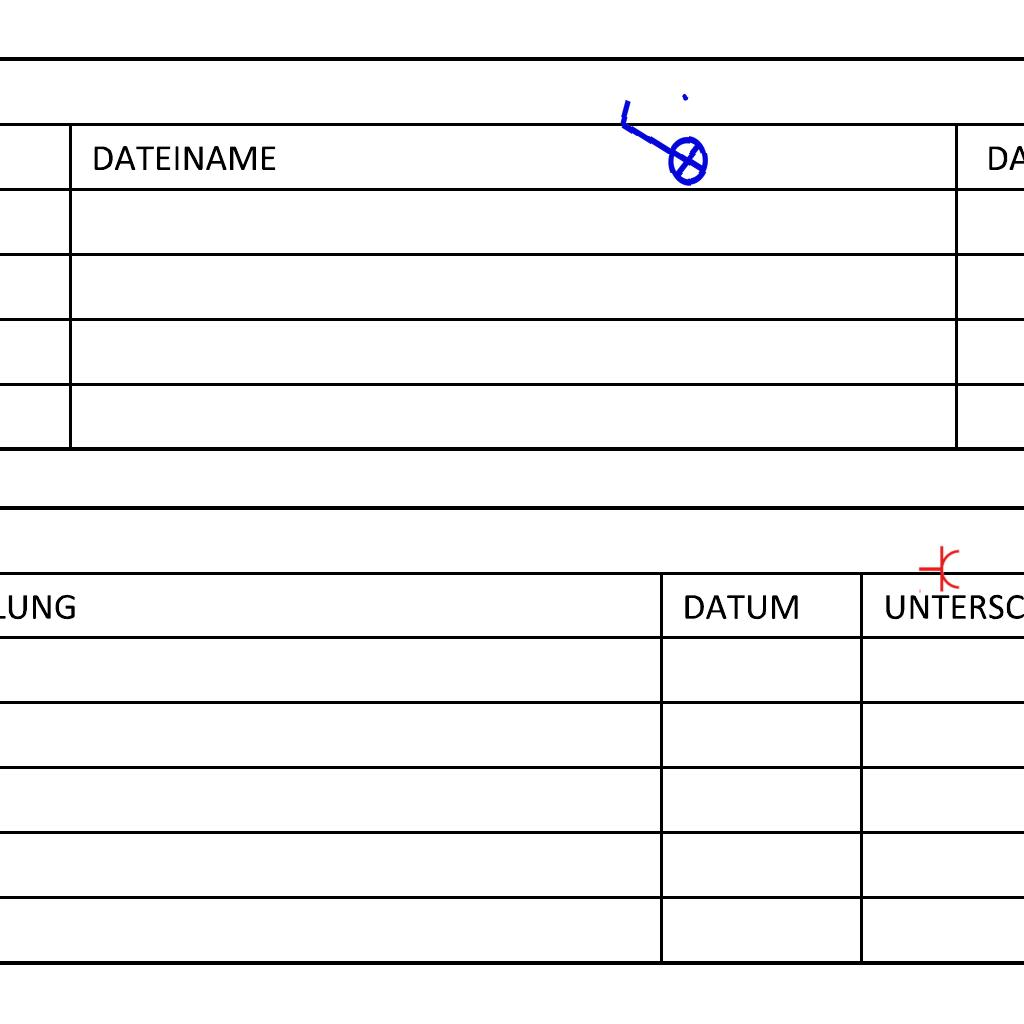Ausschalter_beleuchtet: (610, 86, 712, 204)
Schukosteckdose_einfach: (918, 545, 961, 595)
